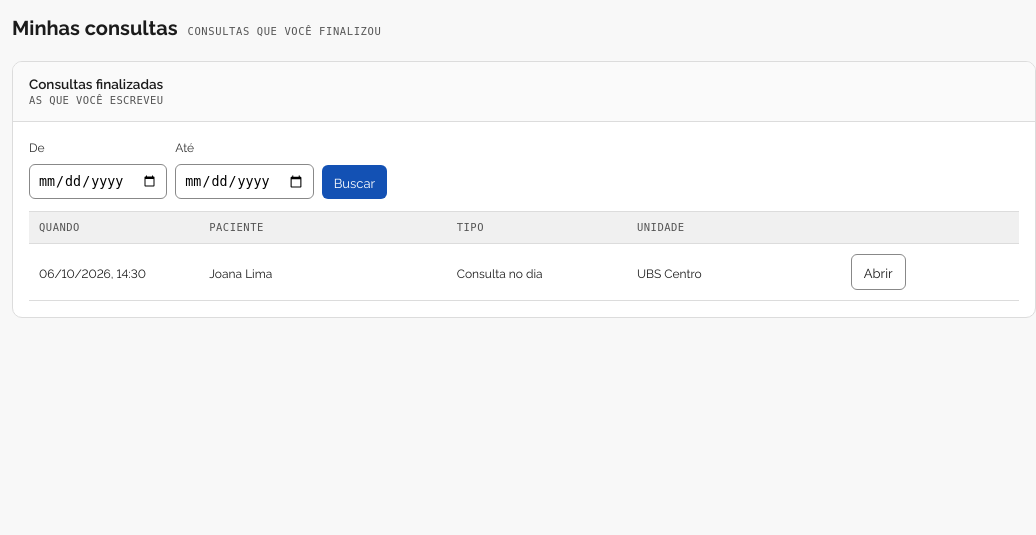
Minhas consultas › só abrir a consulta não busca a lista de problemas
Expected: the text "Joana Lima" is shown, [209,264,272,281]
Click the button with aria-label "Abrir consulta de ".
click(878, 272)  # box [851,254,906,290]
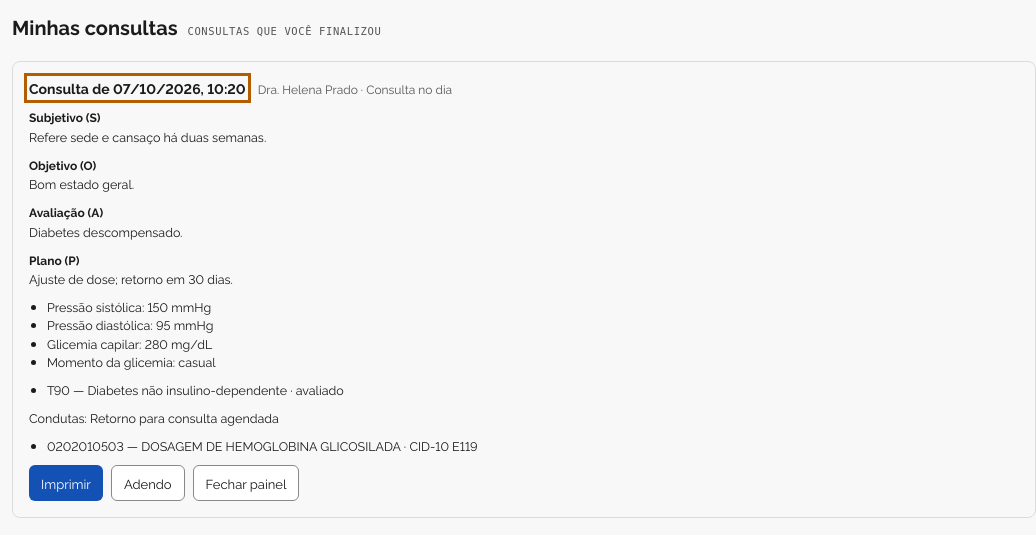
Now the button "Imprimir" is shown, box [29,465,103,501]
